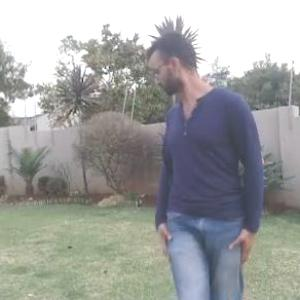follow: (150, 19, 263, 299)
